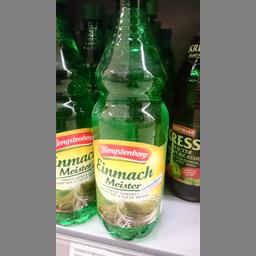vinegar: (88, 0, 170, 240), (55, 8, 96, 227)
